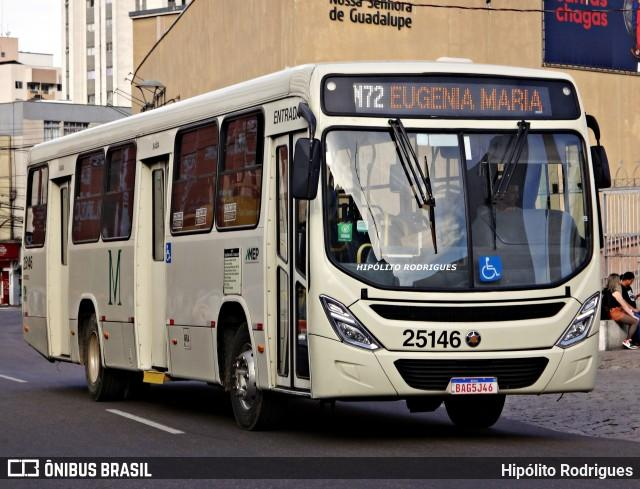EUGENIA MARIA: (386, 83, 545, 115)
